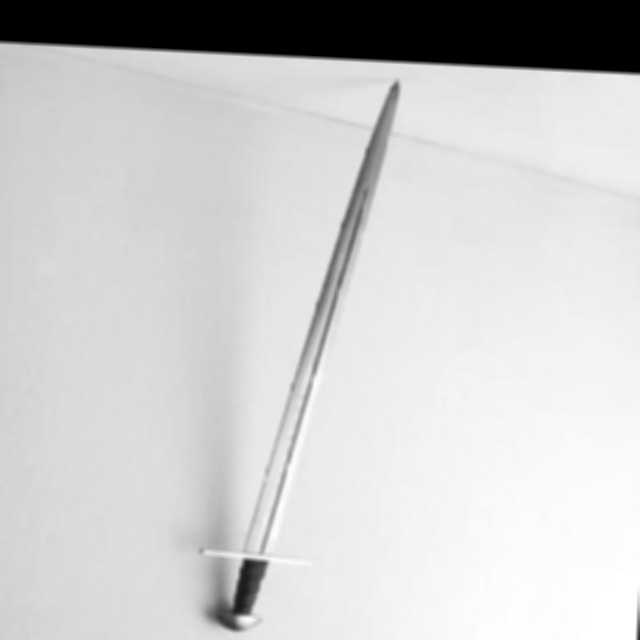Sharp-Object: (221, 75, 410, 626)
